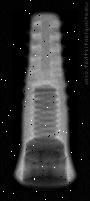Novodent: (0, 8, 79, 192)
